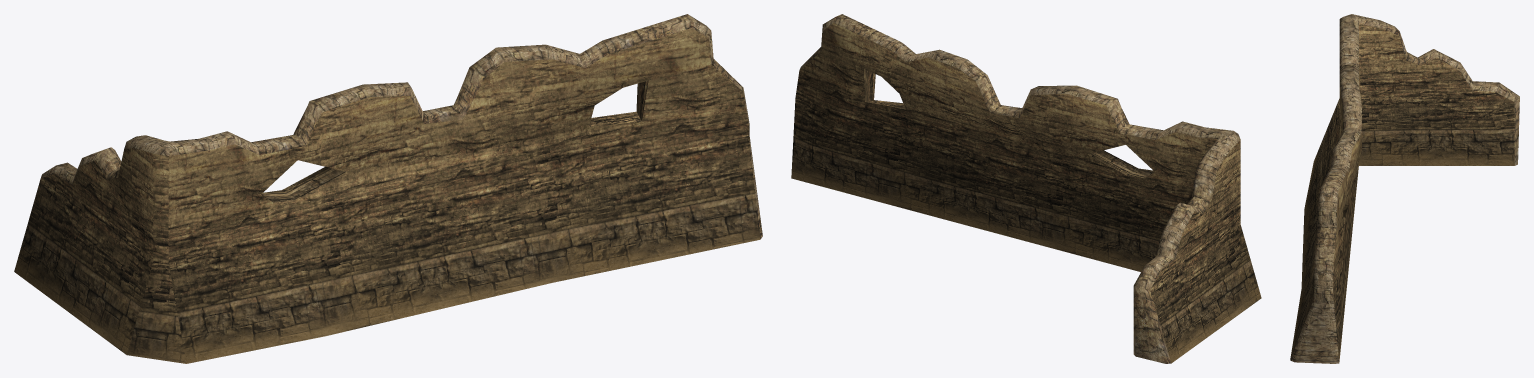
File: SandstoneRuins2.fbx
3 views of the same model, side by side, from view 1: azimuth 30°, elevation 25°; view 2: azimuth 150°, elevation 25°; view 3: azimuth 270°, elevation 25° (orthographic). The views are drawn at different scales.
Visible parts, largest first — view 1: Object002; view 2: Object002; view 3: Object002.
Part boxes in pixels (x1=…): Object002: x1=14, y1=14, x2=762, y2=363; Object002: x1=791, y1=14, x2=1261, y2=363; Object002: x1=1290, y1=14, x2=1519, y2=363.
Bounding box in the file's own units: 944 × 321 × 426.
